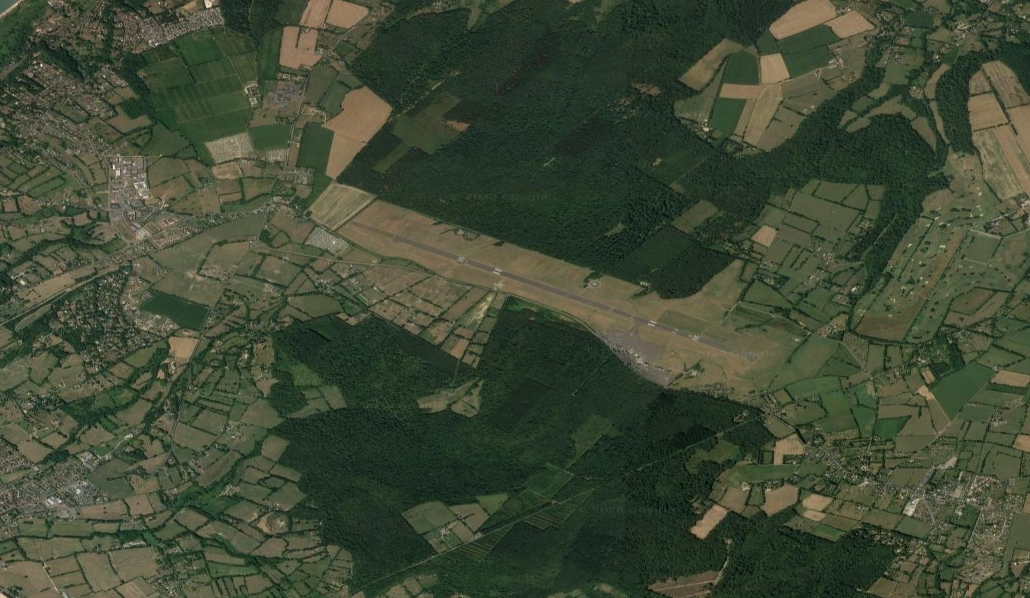airport: (388, 230, 764, 379)
